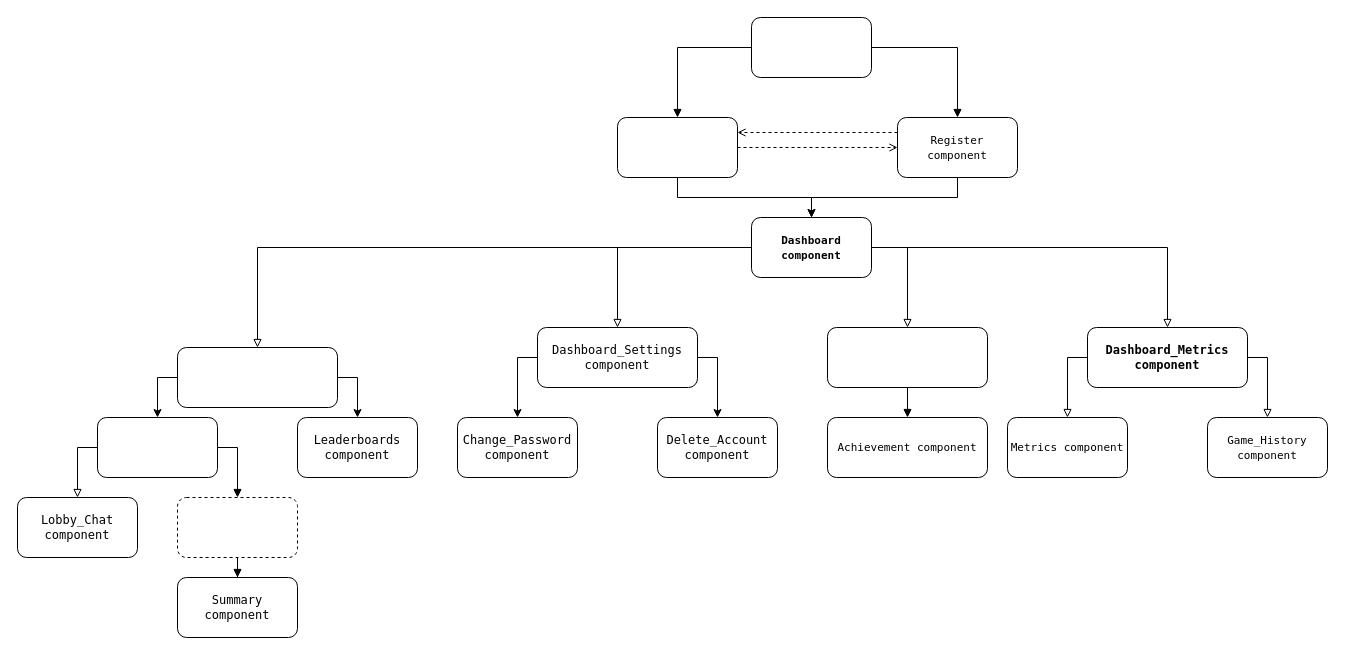
Image size: 1345x655. Some labels were removed from this diagram. The shapes that lost their labels are listed below. From the top down, each one's centre as x and y in pixels, then its label:
At pixel 811 47: "APP".
At pixel 677 147: "Login component".
At pixel 257 377: "Dashboard_Play component".
At pixel 907 357: "Dashboard_Achievements component".
At pixel 157 447: "Lobby component".
At pixel 237 527: "Gameplay Component?".
